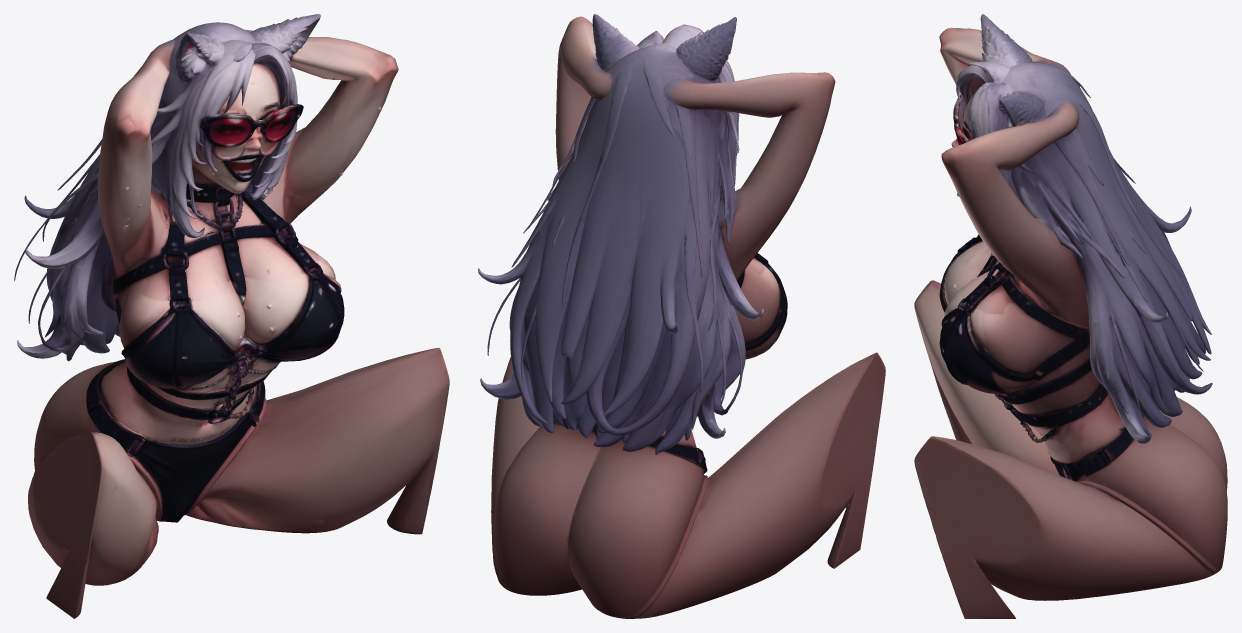
3 views of the same model, side by side, from view 1: azimuth 30°, elevation 25°; view 2: azimuth 150°, elevation 25°; view 3: azimuth 270°, elevation 25° (orthographic). The views are drawn at different scales.
Visible parts, largest first — view 1: node_0; view 2: node_0; view 3: node_0.
Part boxes in pixels (x1,y1,x2,y2): node_0: (14,14,449,618); node_0: (478,14,885,618); node_0: (914,14,1227,618).
Size of the model in its own units: 0.6329 by 0.9539 by 0.5373.
Materials: 1 (1 with a texture image).
